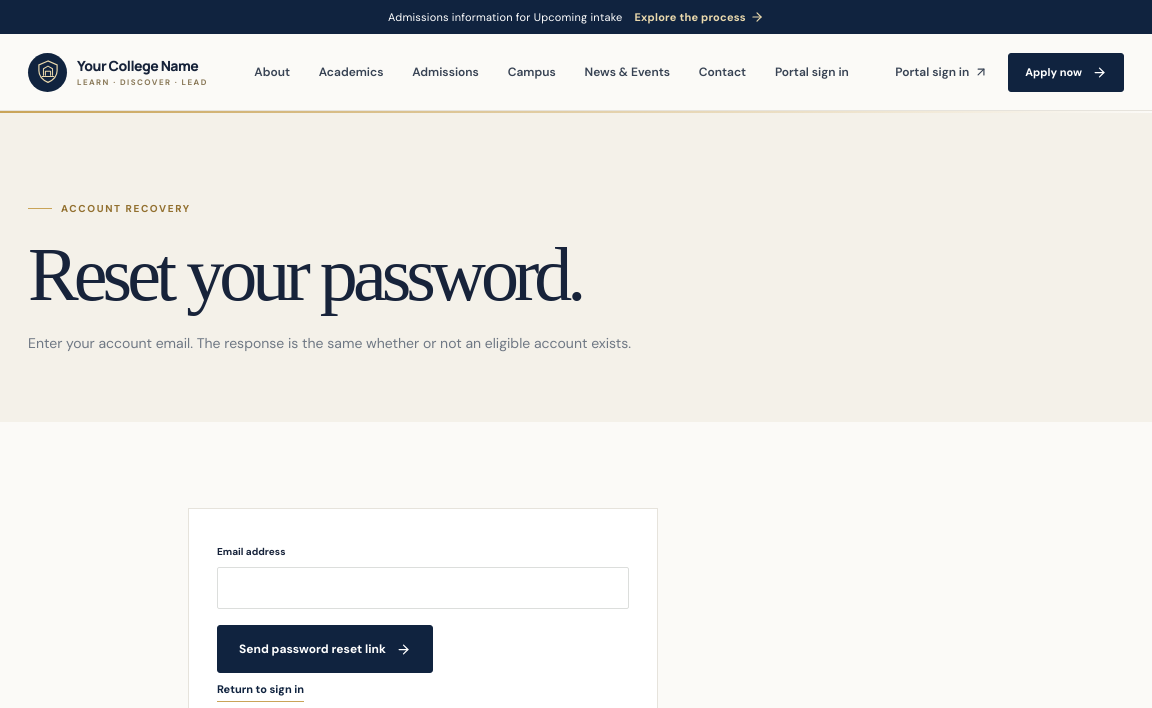
Test: college website › reports password-reset API failures without implying a reset was sent
In the field labelled "Email address": (423, 588) [217,567,629,609], type "visitor@example.edu"
(page scrolled)
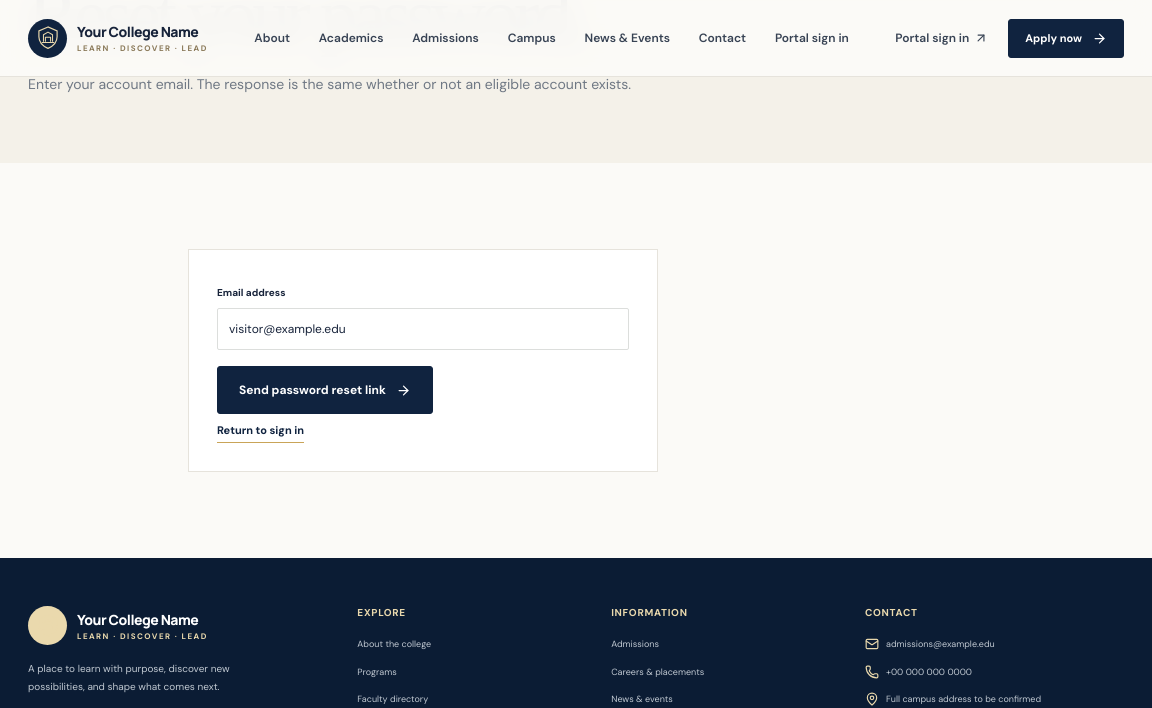
Submit the form "Email address Send password reset link Return to sign in", box [188,249,658,472]
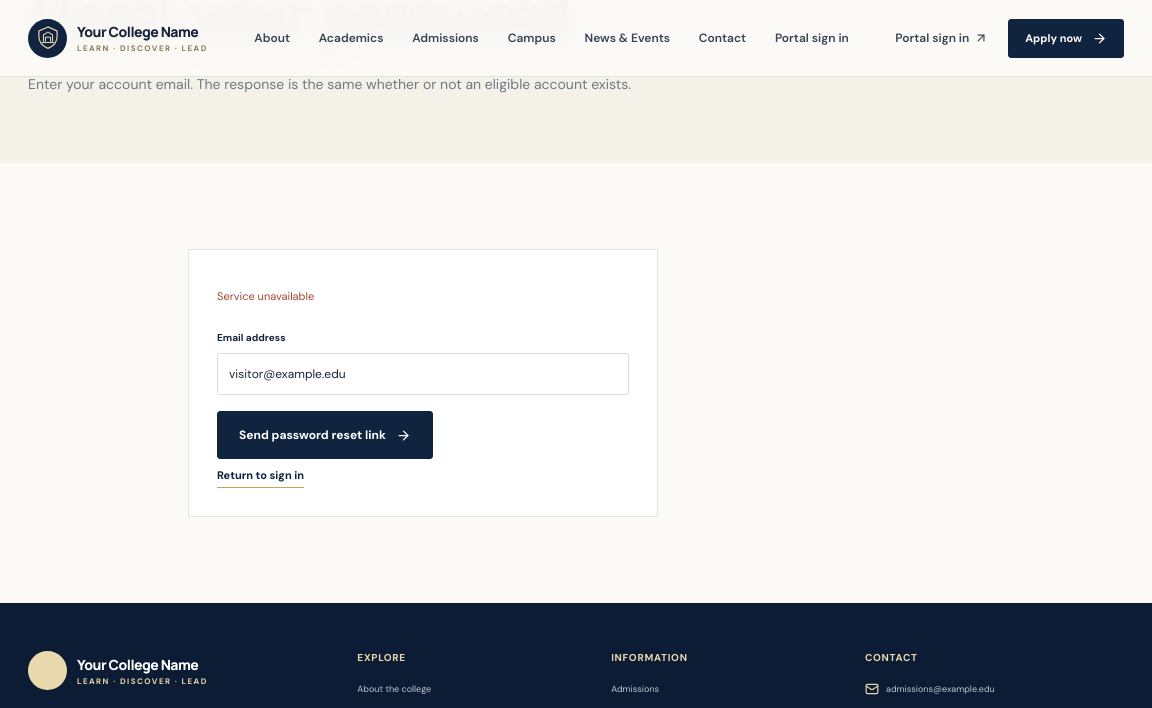
Expected: the message reads "Service unavailable", [217,289,314,303]
